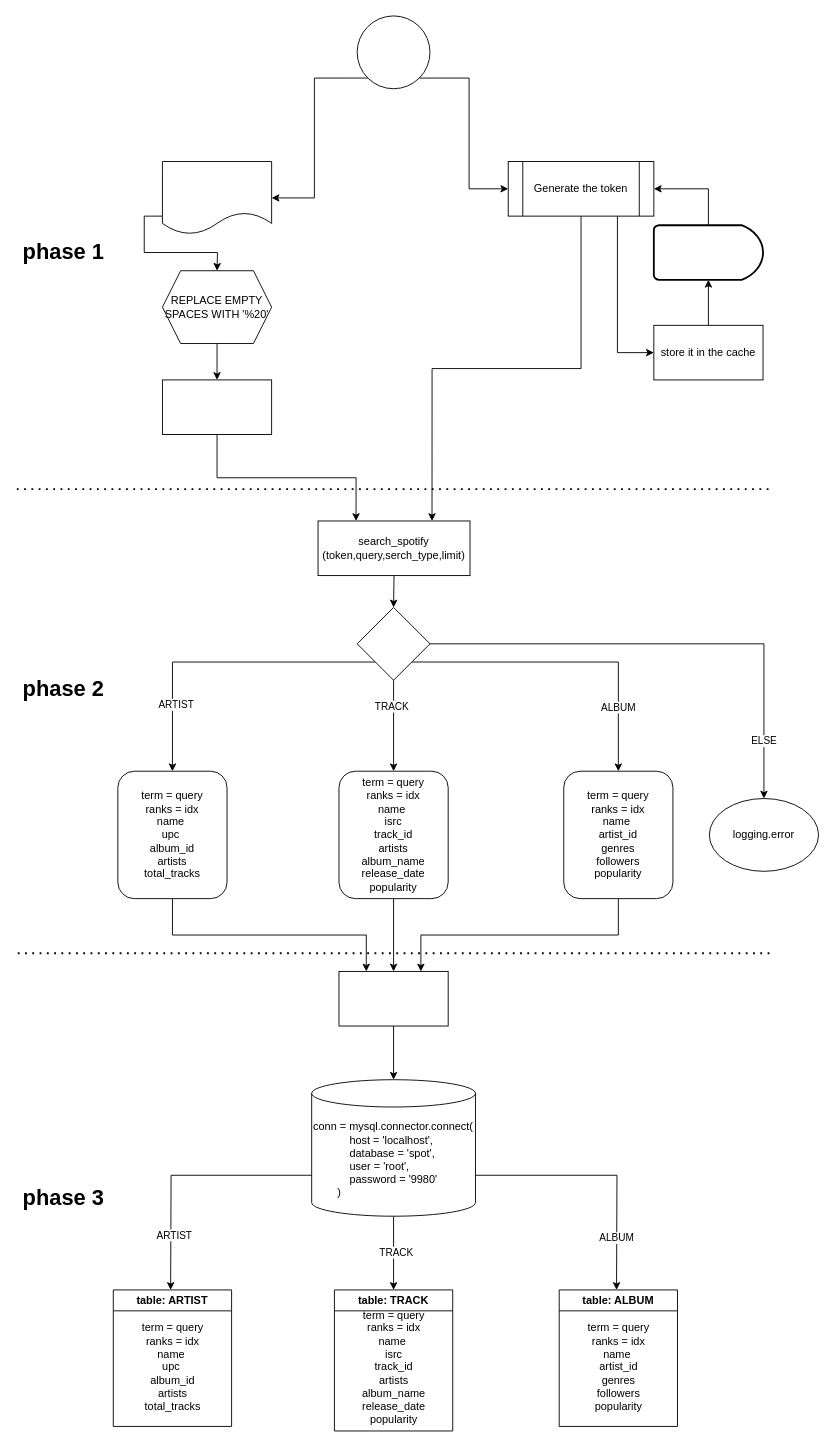
Image size: 834x1447. Some labels were removed from this diagram. Here are the shapes that lost their labels. From the top down, the centre of each, then its label:
At [393,52]: "START".
At [217,197]: "INPUT term = line".
At [707,252]: "refresh_token(3600)".
At [217,407]: "strore modified terms in lines_list".
At [393,643]: "TYPE".
At [393,998]: "add_to_db (data_to_insert,type)".
